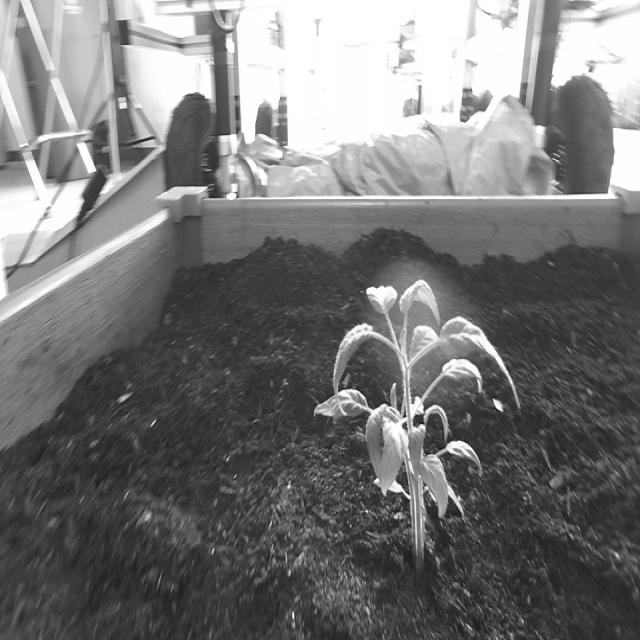Healthy: (307, 265, 529, 587)
